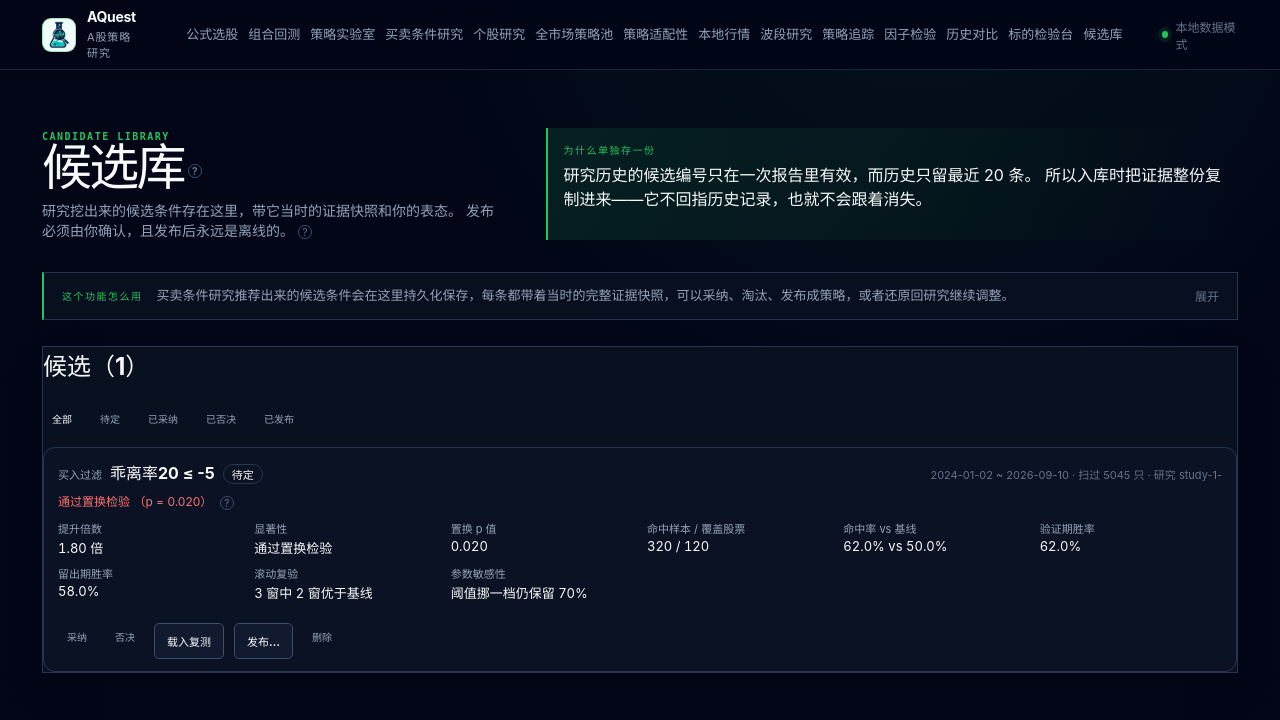
Test: CandidateLibraryPage › adopts a pending candidate
The image size is (1280, 720).
Click the button with test id "candidate-action-adopted-c1": [77, 637] box [58,620,96,654]
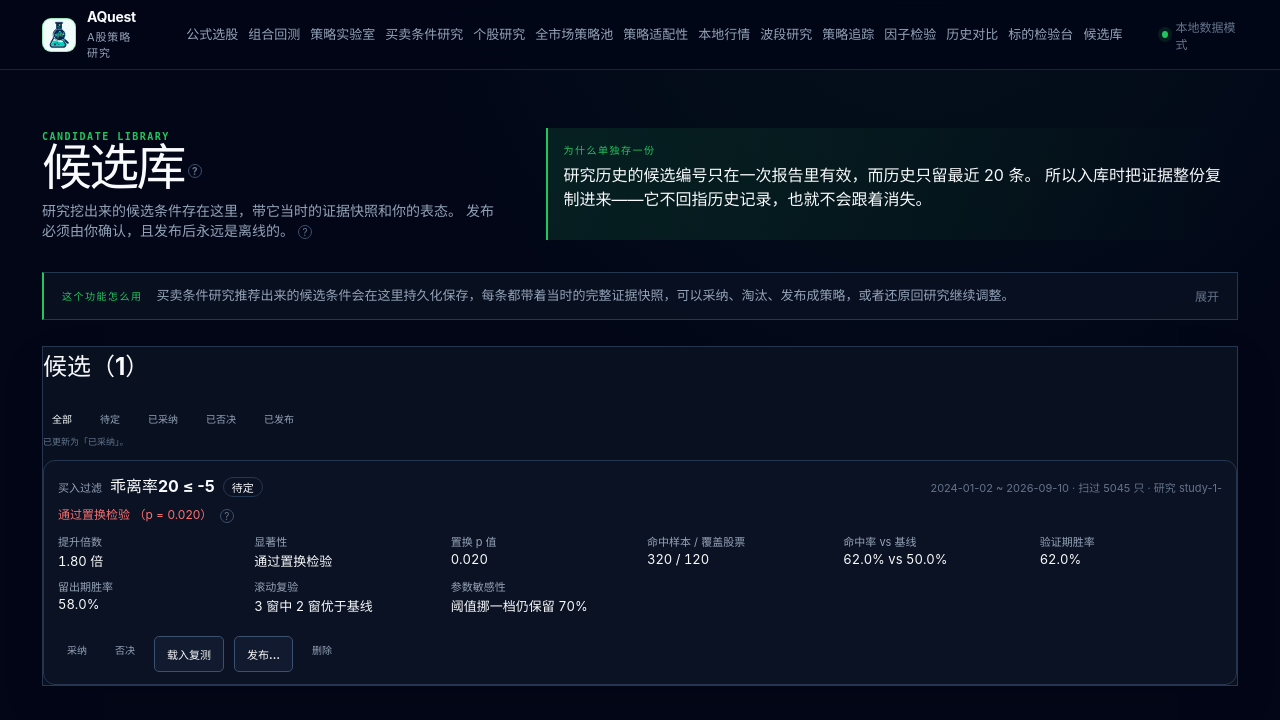
expect the text with test id "candidate-message" shows "已采纳": met, box [43,436,128,447]
